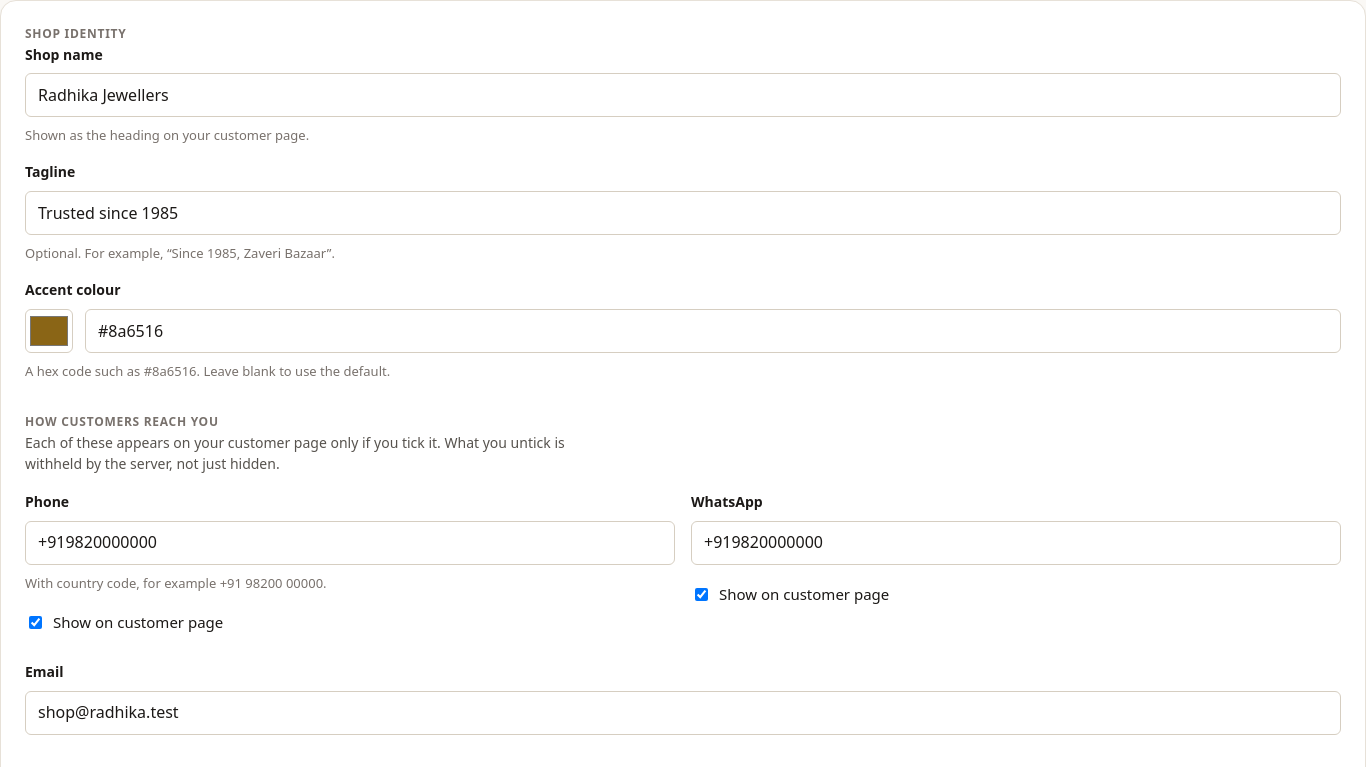
Test case: failures › Settings_serverError_isShownAndEditsSurvive
The width and height of the screenshot is (1366, 767).
Type "!" into the field labelled "Tagline" at point(683, 213), box [25,191,1341,235]
(page scrolled)
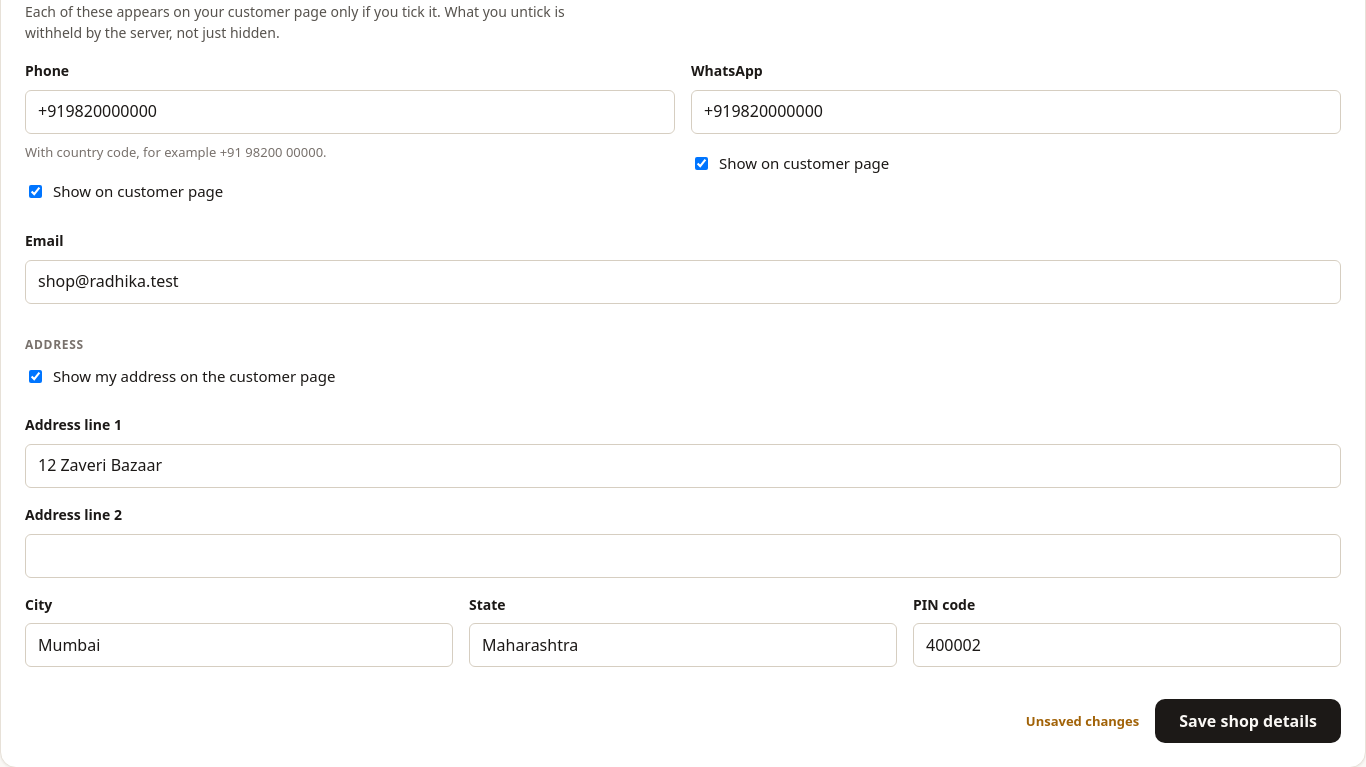
Click the button "Save shop details" at point(1248, 721), box [1155,699,1341,743]
(page scrolled)
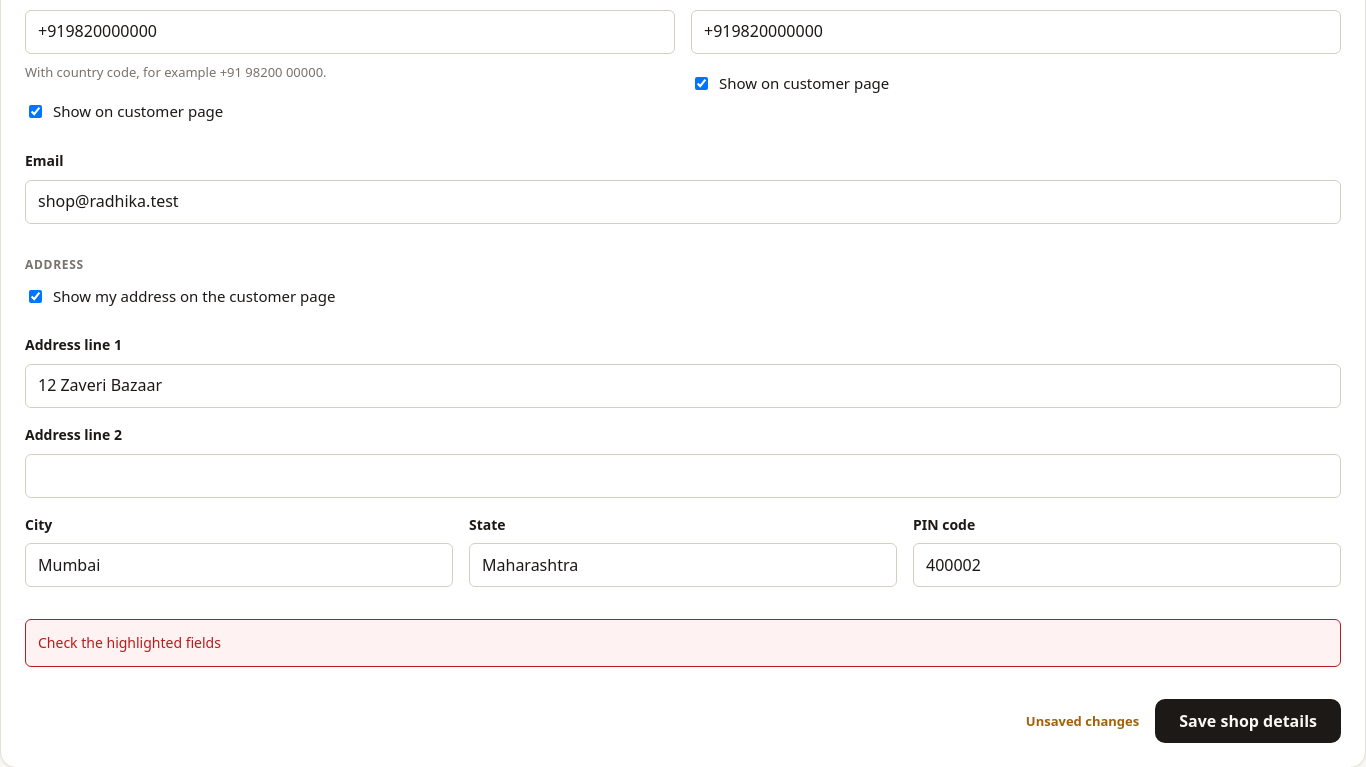
Check: the text "Unsaved changes" is shown, box [1026,711,1139,731]
Check: the button "Save shop details" is enabled, box [1155,699,1341,743]
Check: the message reads "Check the highlighted fields", box [38,633,221,652]
